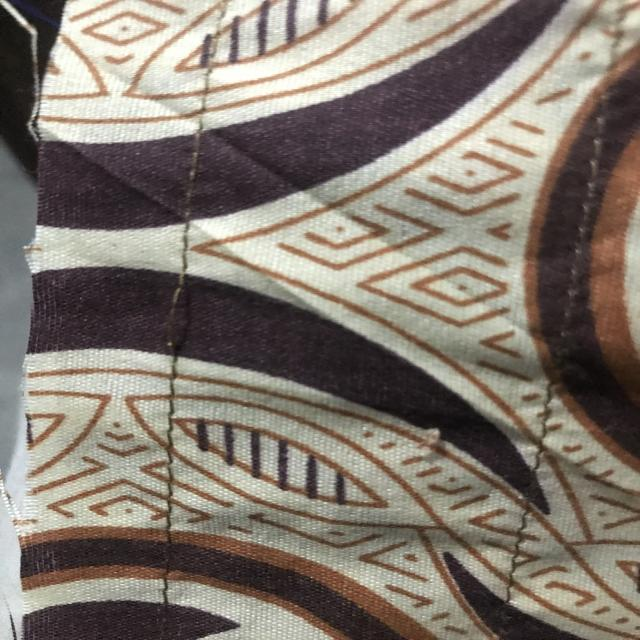good: (145, 383, 187, 504)
skip: (146, 258, 200, 358)
